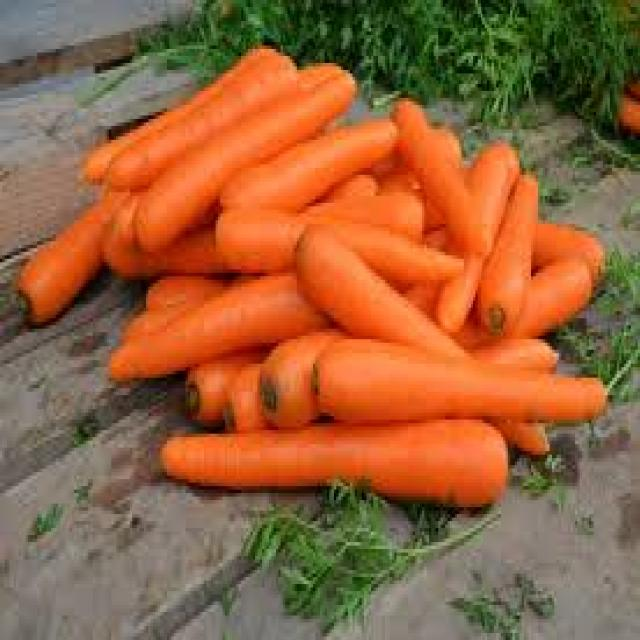Carrot: (161, 425, 512, 497), (311, 345, 614, 428)
